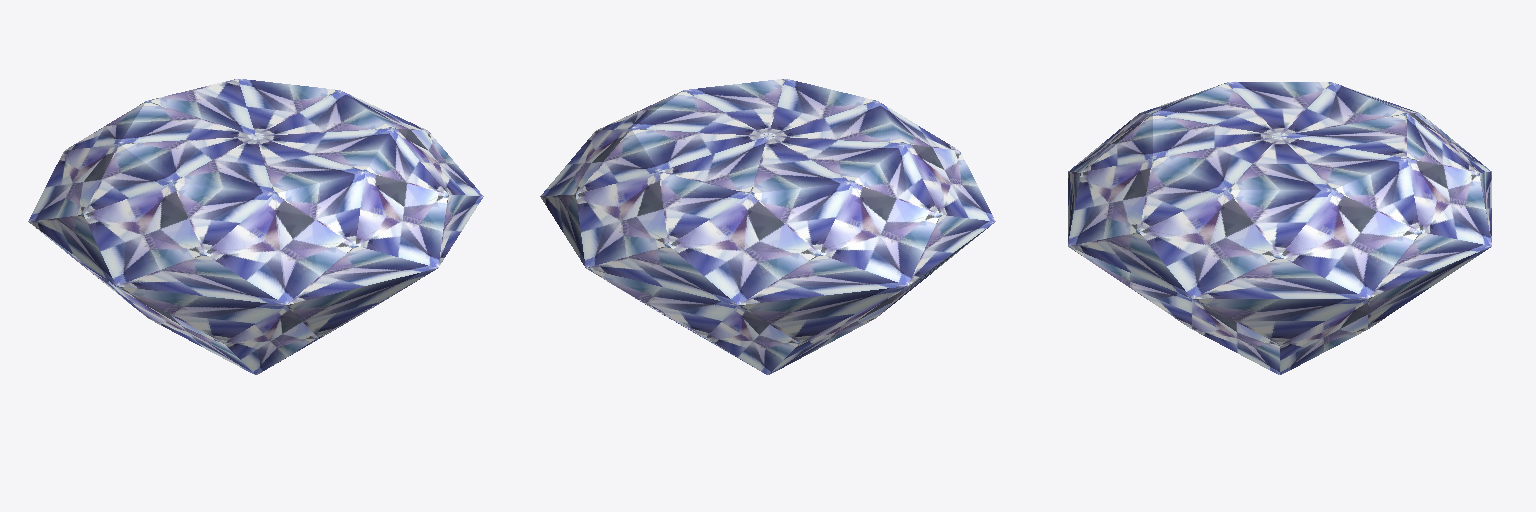
3 renders of one model, left to right at view 1: azimuth 30°, elevation 25°; view 2: azimuth 150°, elevation 25°; view 3: azimuth 270°, elevation 25°, orthographic.
Parts seen in each view (by area): view 1: Gem; view 2: Gem; view 3: Gem.
Boxes of the visible parts, box(x1,y1,x2,y2) form: Gem: box(28, 79, 483, 374); Gem: box(540, 79, 995, 374); Gem: box(1068, 82, 1491, 374).
Bounding box in the file's own units: 1.85 × 1.15 × 1.85.
Materials: 1 (1 with a texture image).